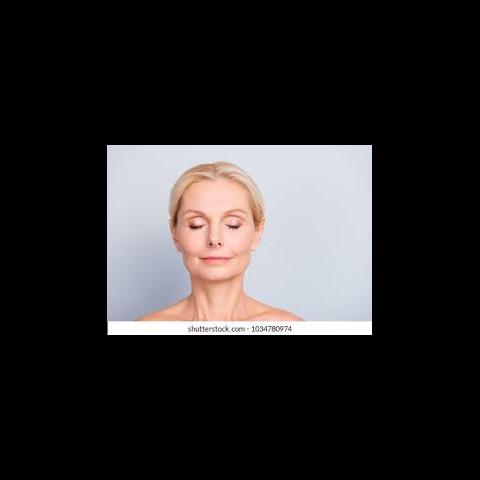closed: (182, 207, 248, 234)
